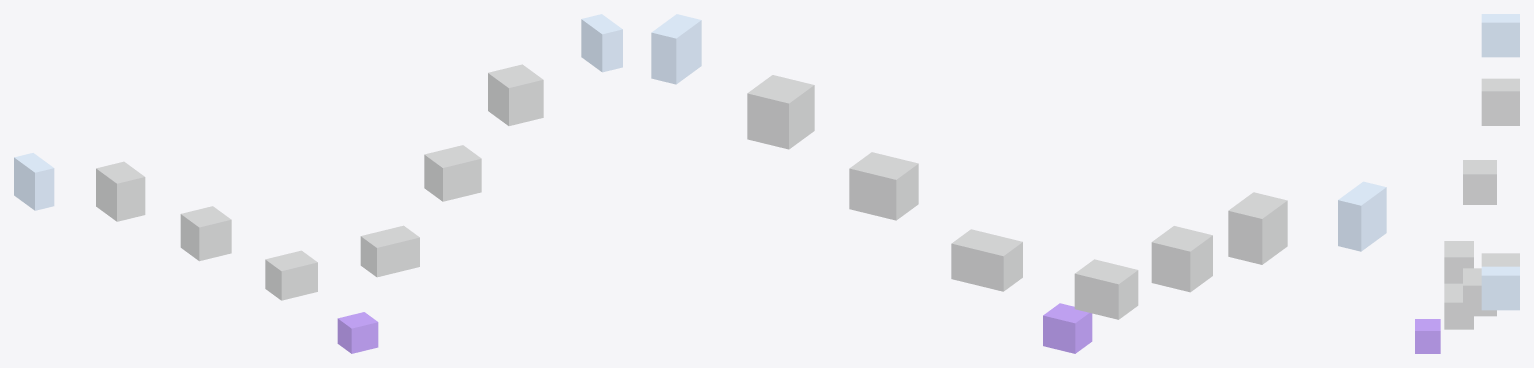
3 renders of one model, left to right at view 1: azimuth 30°, elevation 25°; view 2: azimuth 150°, elevation 25°; view 3: azimuth 270°, elevation 25°, orthographic. The views are drawn at different scales.
Visible parts, largest first — view 1: Decoder level 3, Decoder level 2, Encoder level 1, Decoder level 1, Encoder level 2, Encoder level 3, Segmentation head, Image input, Bottleneck; view 2: Decoder level 3, Decoder level 2, Encoder level 1, Decoder level 1, Encoder level 2, Encoder level 3, Segmentation head, Image input, Bottleneck; view 3: Encoder level 1, Segmentation head, Image input, Encoder level 2, Encoder level 3, Decoder level 1, Decoder level 2, Bottleneck, Decoder level 3.
Boxes of the visible parts, <box> form: Decoder level 3: <box>488,64,543,125</box>; Decoder level 2: <box>424,145,481,201</box>; Encoder level 1: <box>96,161,145,221</box>; Decoder level 1: <box>360,225,419,277</box>; Encoder level 2: <box>180,206,231,261</box>; Encoder level 3: <box>265,250,317,300</box>; Segmentation head: <box>581,14,622,72</box>; Image input: <box>14,153,54,210</box>; Bottleneck: <box>337,312,378,353</box>; Decoder level 3: <box>747,75,814,149</box>; Decoder level 2: <box>849,152,918,220</box>; Encoder level 1: <box>1228,192,1287,264</box>; Decoder level 1: <box>951,229,1022,291</box>; Encoder level 2: <box>1151,226,1212,292</box>; Encoder level 3: <box>1074,259,1138,319</box>; Segmentation head: <box>651,14,701,84</box>; Image input: <box>1338,181,1386,251</box>; Bottleneck: <box>1043,303,1092,353</box>; Encoder level 1: <box>1481,78,1519,125</box>; Segmentation head: <box>1481,266,1519,310</box>; Image input: <box>1481,14,1519,57</box>; Encoder level 2: <box>1463,160,1496,204</box>; Encoder level 3: <box>1444,241,1473,283</box>; Decoder level 1: <box>1444,283,1473,329</box>; Decoder level 2: <box>1463,268,1496,316</box>; Bottleneck: <box>1415,319,1440,353</box>; Decoder level 3: <box>1481,253,1519,266</box>.
Size of the model in its own units: 44.04 by 15.96 by 7.45.
